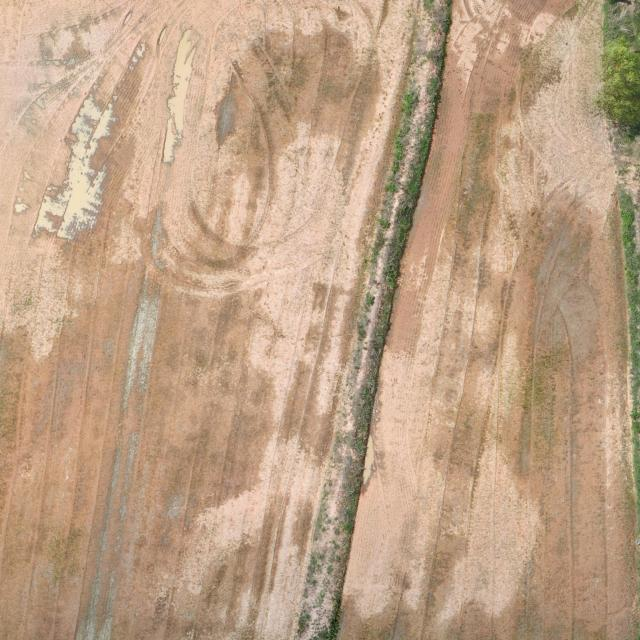Tree: (593, 40, 640, 131)
